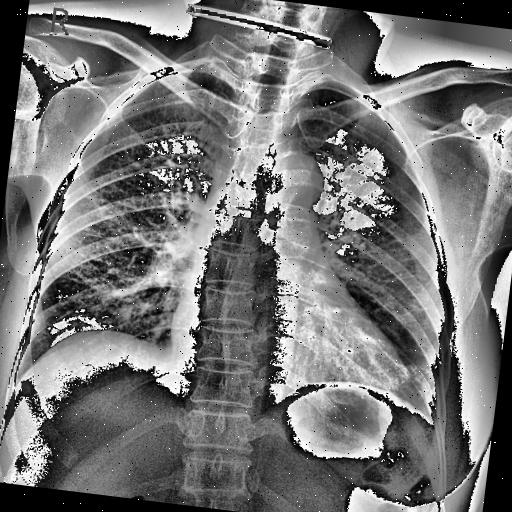0- Aortic enlargement: (254, 148, 328, 234), (265, 151, 328, 213), (269, 148, 327, 214)
3- Cardiomegaly: (164, 294, 418, 401), (164, 298, 416, 402), (160, 314, 412, 410)
